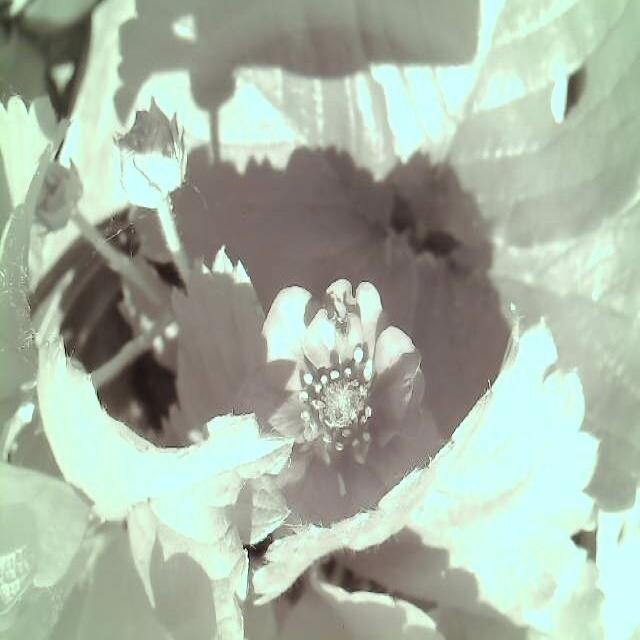flower: (232, 248, 474, 558)
